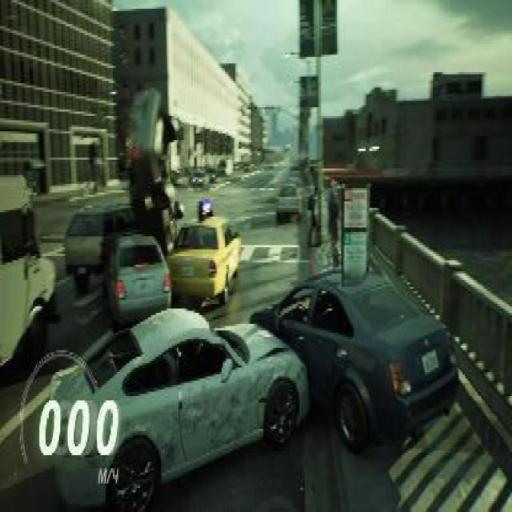小汽车: (270, 178, 304, 228)
小汽车撞小汽车: (60, 288, 462, 478), (65, 184, 239, 322)
